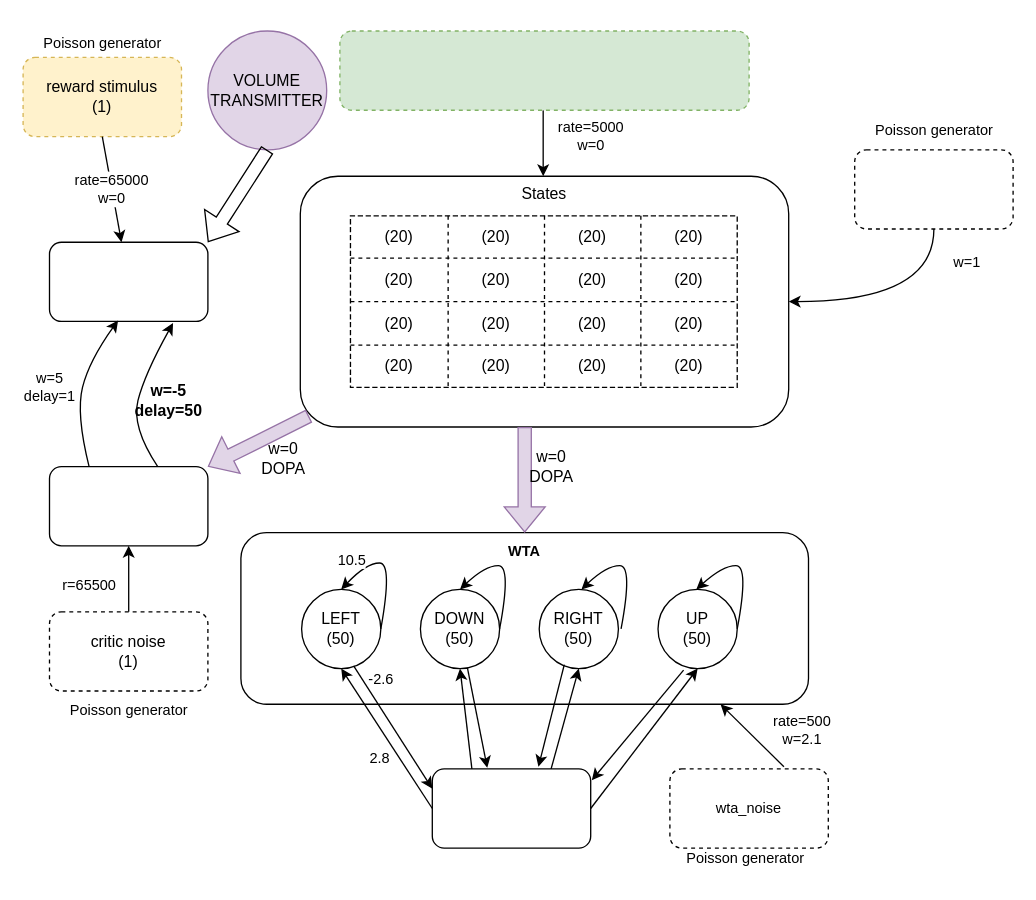
The diagram is 1036 pixels wide and 900 high, and some of its shapes have lost their labels. The shapes that lost their labels are listed below. From the top down, each one's centre as x and y in pixels, then its label:
point (544, 70): INPUT Stimulus (1)
point (933, 188): noise (1)
point (128, 281): DA (100)
point (128, 505): Critic (50)
point (511, 808): wta_inh (50)
